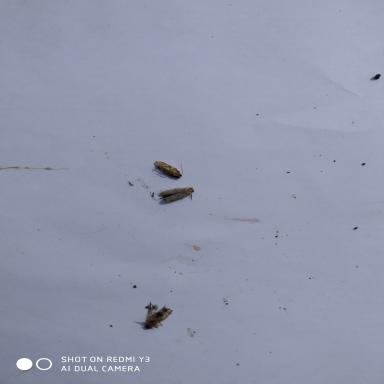pbw: (129, 300, 174, 336), (148, 181, 203, 206), (148, 156, 192, 182)
